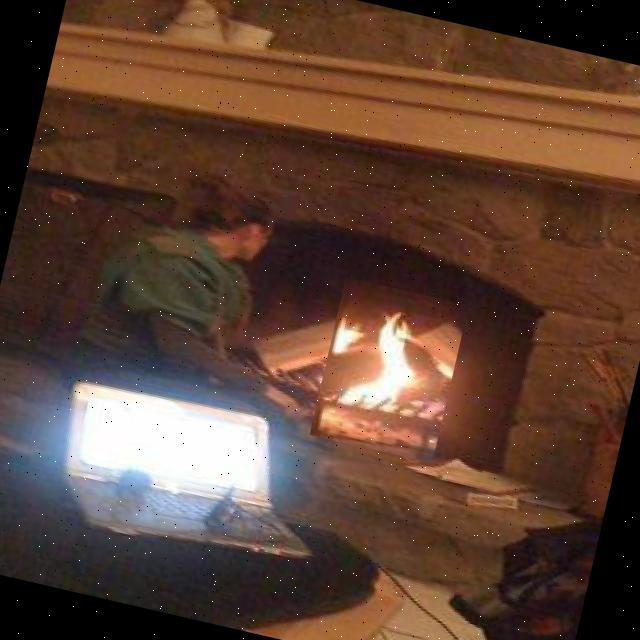fire: (309, 276, 468, 462)
